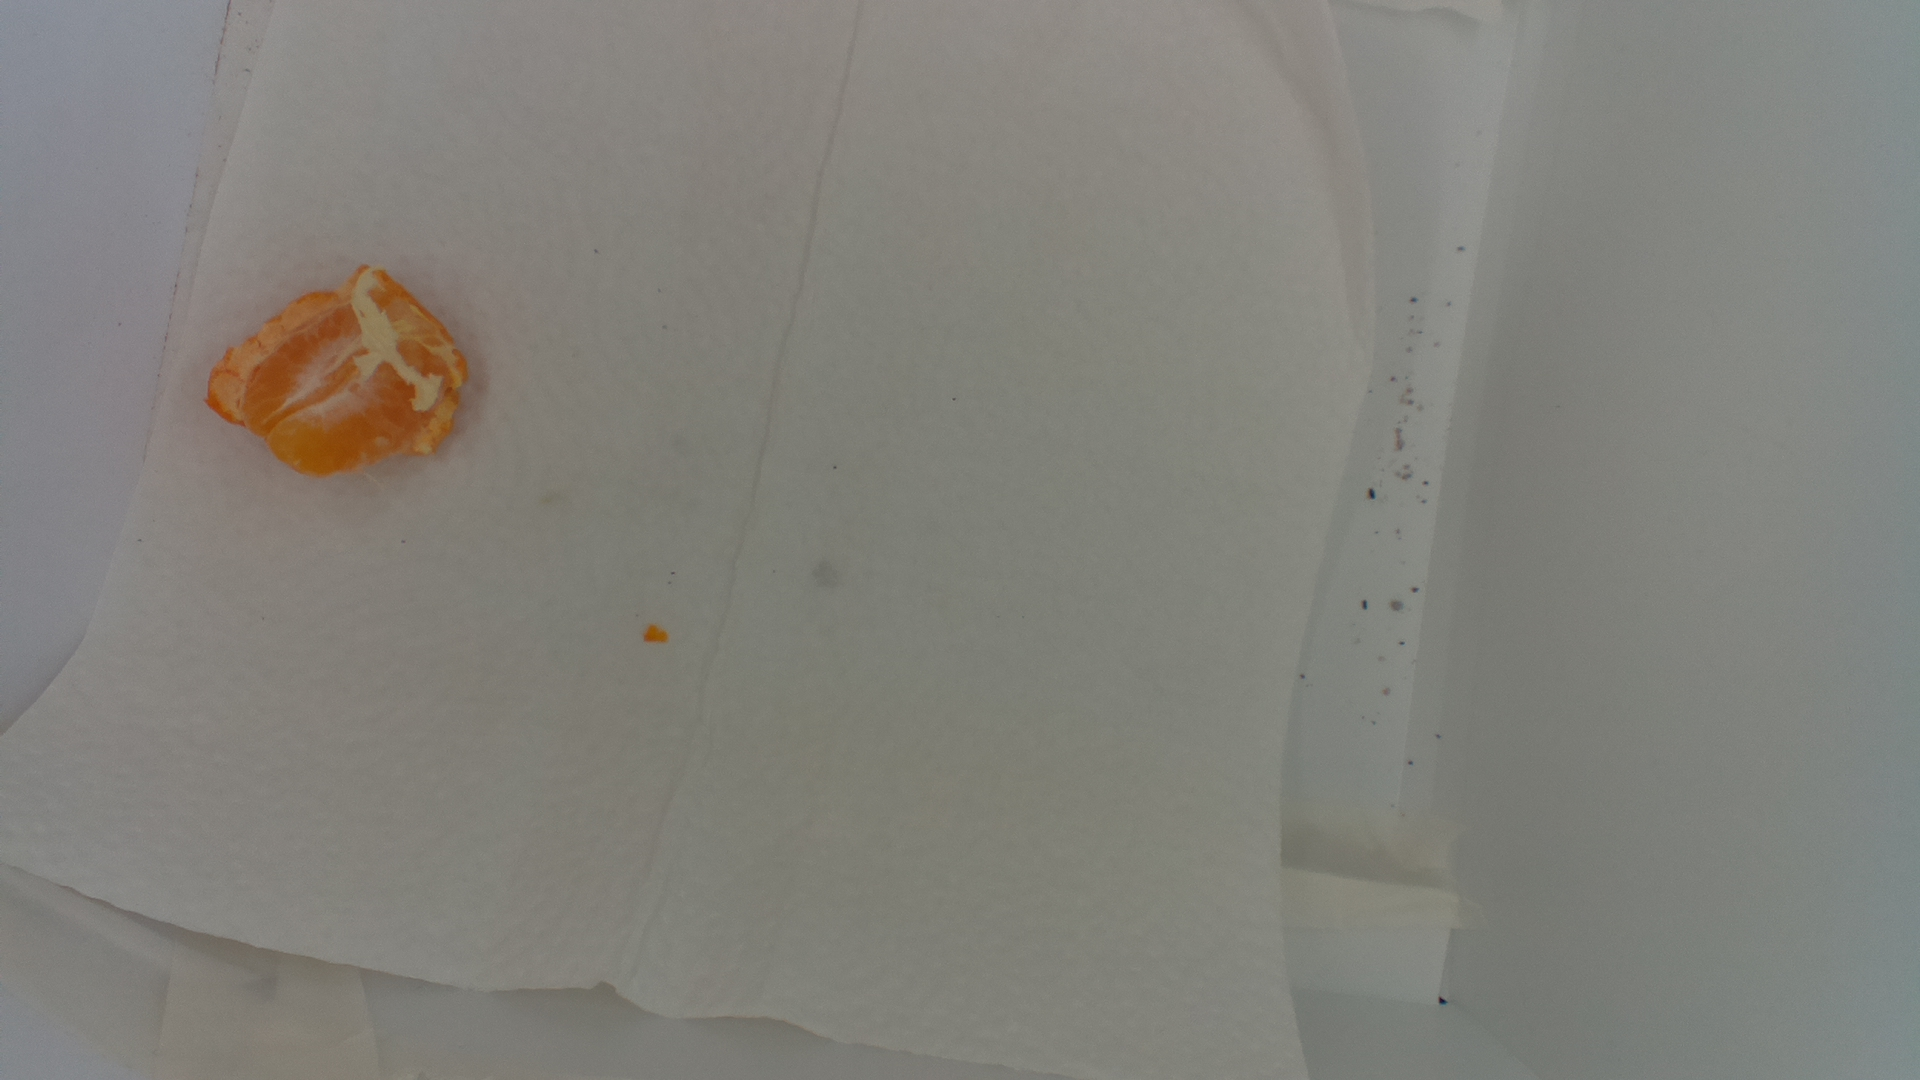fruit: (196, 261, 475, 489)
